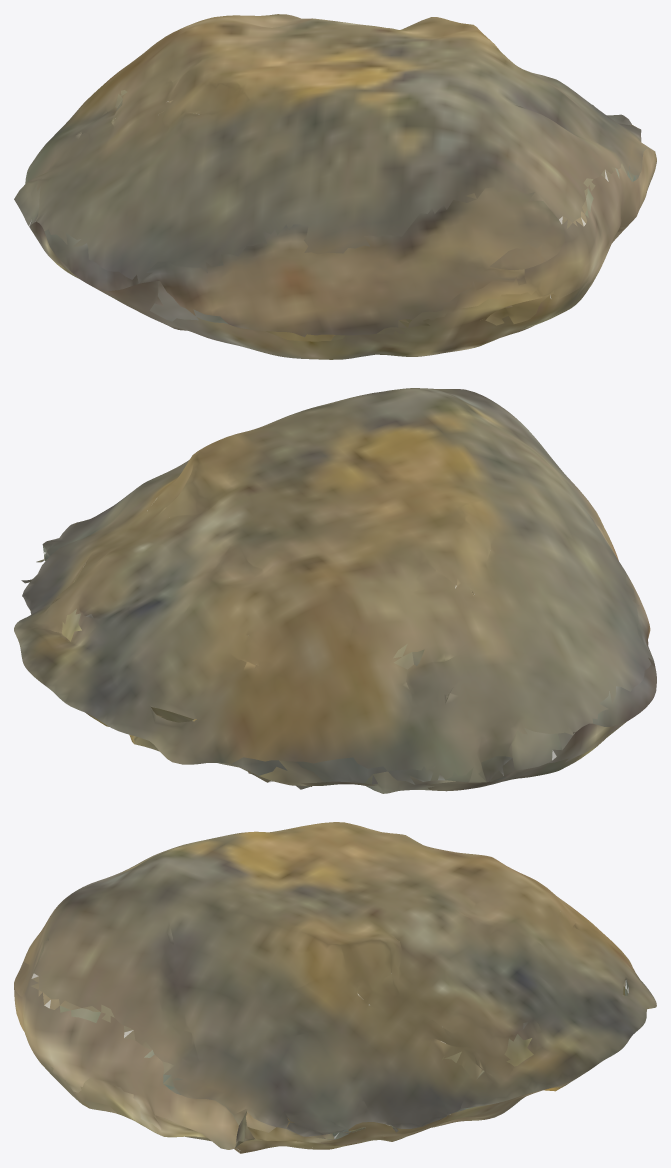
The model's file is asset.glb.
3 views of the same model, one above another, from view 1: azimuth 30°, elevation 25°; view 2: azimuth 150°, elevation 25°; view 3: azimuth 270°, elevation 25° (orthographic). The views are drawn at different scales.
Visible parts, largest first — view 1: Body; view 2: Body; view 3: Body.
Part boxes in pixels (left/top/right/bottom): Body: left=14, top=14, right=656, bottom=359; Body: left=14, top=388, right=656, bottom=793; Body: left=14, top=822, right=656, bottom=1153.
Size of the model in its own units: 0.2338 by 0.0957 by 0.2424.
1 material, 1 textured.
